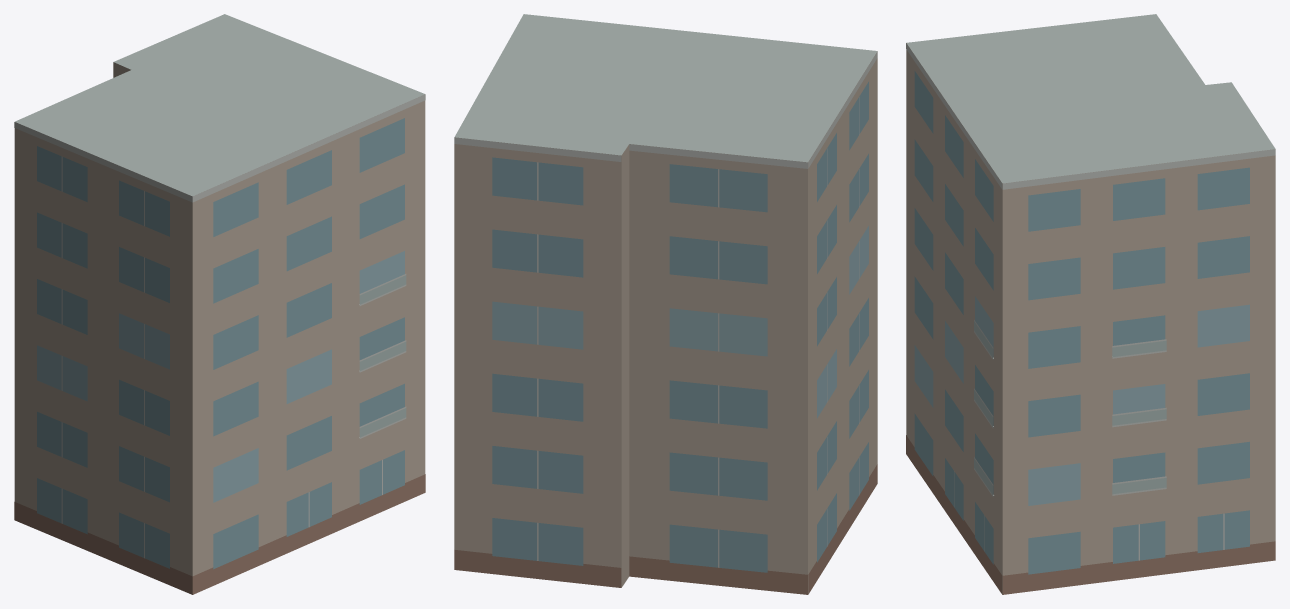
Rendered from survey-upis-32772384.glb.
The picture shows the model from 3 angles, left to right: view 1: azimuth 30°, elevation 25°; view 2: azimuth 150°, elevation 25°; view 3: azimuth 270°, elevation 25°; orthographic projection. The views are drawn at different scales.
Visible parts, largest first — view 1: survey-upis-32772384.tmp; view 2: survey-upis-32772384.tmp; view 3: survey-upis-32772384.tmp.
Part boxes in pixels (bbox=[...]): survey-upis-32772384.tmp: bbox=[14, 14, 425, 594]; survey-upis-32772384.tmp: bbox=[454, 14, 877, 594]; survey-upis-32772384.tmp: bbox=[906, 14, 1275, 594].
Bounding box in the file's own units: 14.06 × 15.9 × 12.95.
